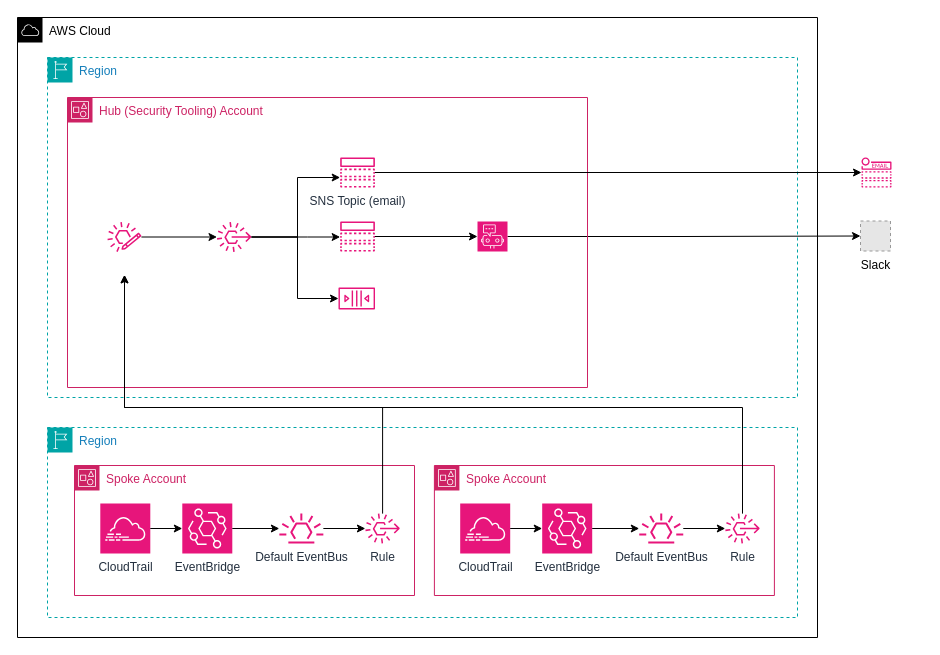
Image size: 940x655. Some labels were removed from this diagram. Grey dashed boxes stand in for pictures. Each missing label, with the centre of its shape:
Chatbot Slack Channel: (x=492, y=236)
Custom EventBus: (x=124, y=237)
Email Notification: (x=876, y=172)
Rules: (x=233, y=237)
SNS Topic (Slack): (x=357, y=236)
SQS (DLQ): (x=356, y=298)
